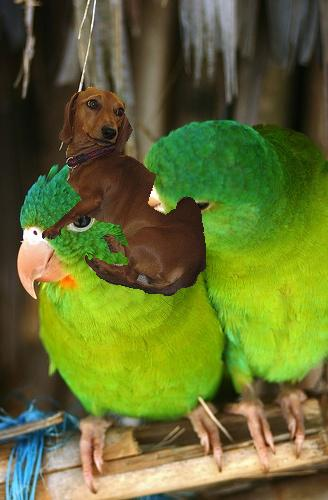tampered: (43, 87, 206, 296)
